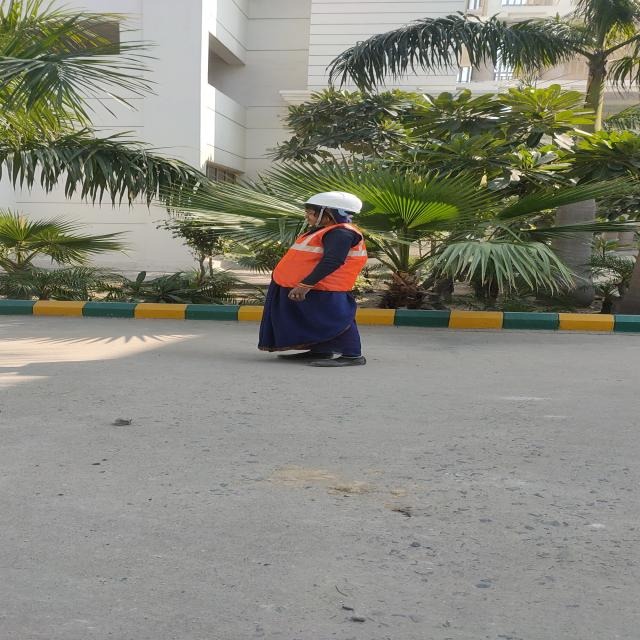safe: (272, 191, 368, 367)
